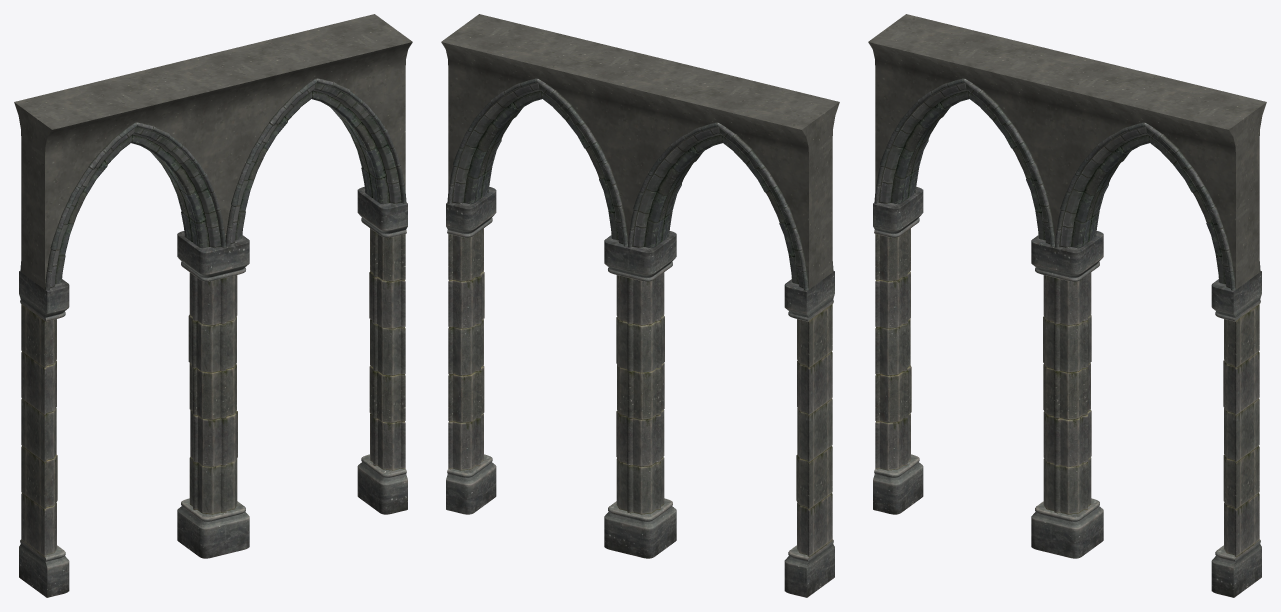
3 views of the same model, side by side, from view 1: azimuth 30°, elevation 25°; view 2: azimuth 150°, elevation 25°; view 3: azimuth 330°, elevation 25° (orthographic).
Parts seen in each view (by area): view 1: SM_SaradominTemple_Arch_12x16_01_v1_LOD0; view 2: SM_SaradominTemple_Arch_12x16_01_v1_LOD0; view 3: SM_SaradominTemple_Arch_12x16_01_v1_LOD0.
Boxes of the visible parts, x1,y1,x2,y2 form: SM_SaradominTemple_Arch_12x16_01_v1_LOD0: (14,14,412,597); SM_SaradominTemple_Arch_12x16_01_v1_LOD0: (441,14,839,597); SM_SaradominTemple_Arch_12x16_01_v1_LOD0: (868,14,1266,597).
Bounding box in the file's own units: 12 × 15 × 2.2.
3 materials, 3 textured.
